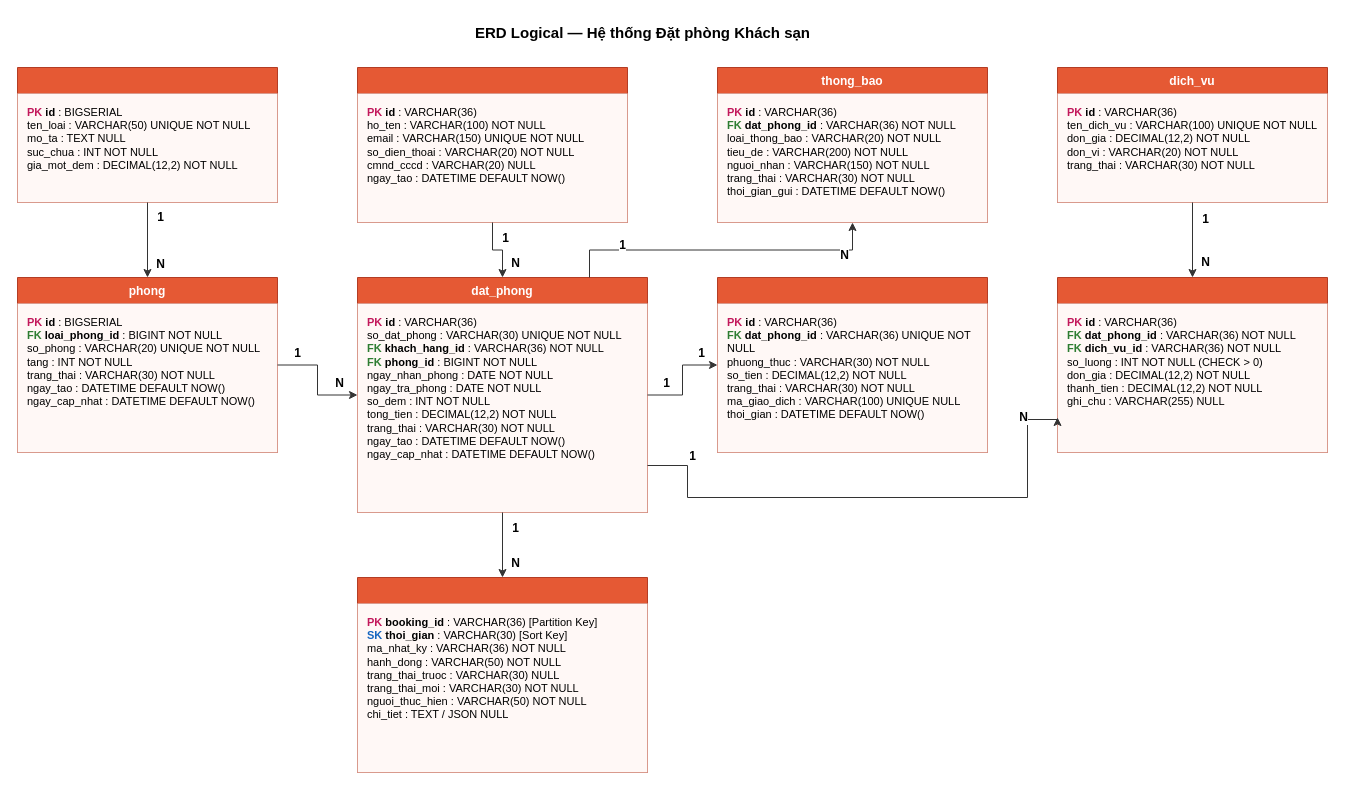
This 1345x790 diagram has some shape labels left out. Here are the shapes that lost their labels. From the top down, the box of each, then its label:
(16, 66, 278, 202): loai_phong
(356, 66, 628, 222): khach_hang
(716, 276, 988, 452): thanh_toan
(1056, 276, 1328, 452): chi_tiet_dich_vu
(356, 576, 648, 772): nhat_ky_trang_thai (DynamoDB)
